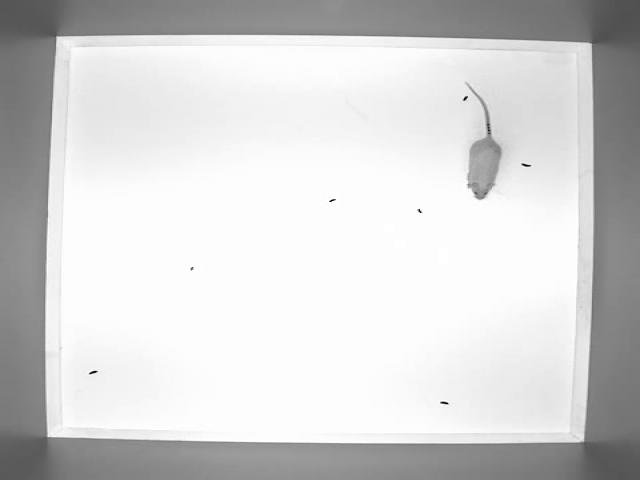Tikus: (453, 75, 508, 207)
